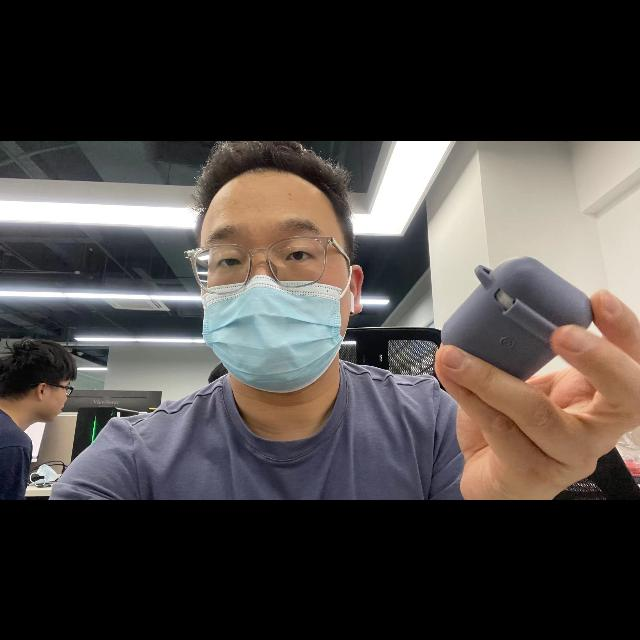airpods: (441, 256, 596, 381)
